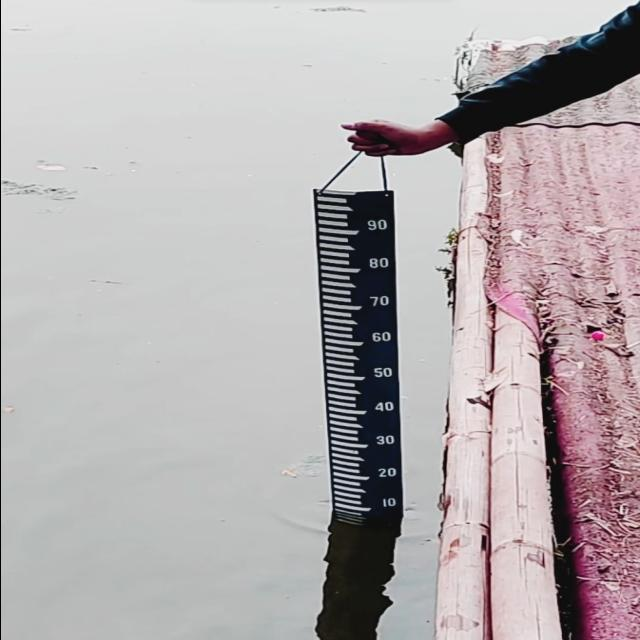10: (379, 496, 398, 508)
20: (377, 466, 397, 479)
30: (375, 433, 395, 446)
40: (372, 399, 395, 413)
50: (372, 366, 393, 380)
60: (371, 329, 392, 343)
70: (367, 294, 391, 308)
80: (368, 257, 389, 270)
90: (366, 219, 388, 232)
staff: (312, 187, 401, 515)
